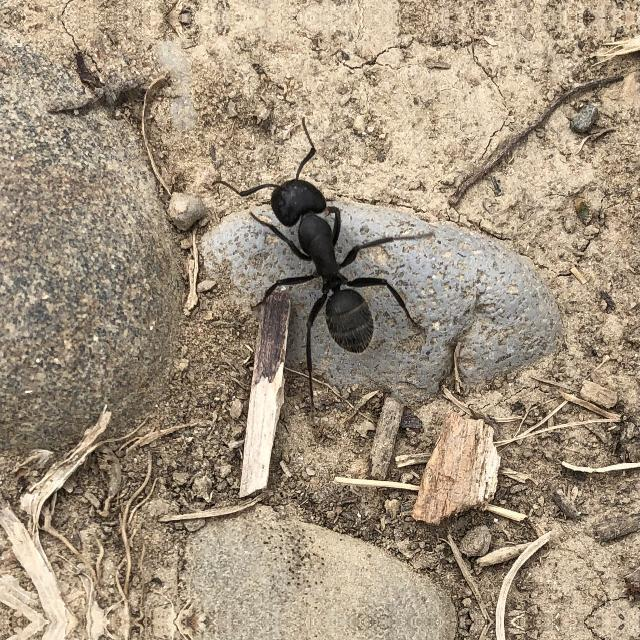Camponotus: (207, 136, 415, 368)
